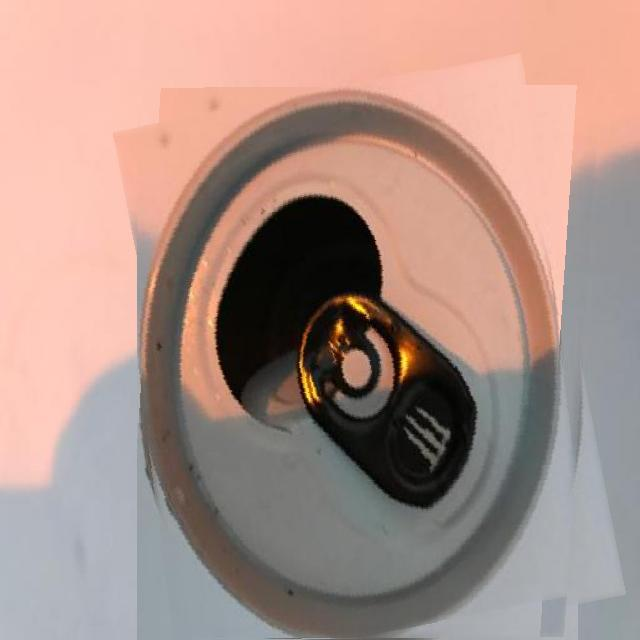recyclable: (137, 70, 602, 640)
